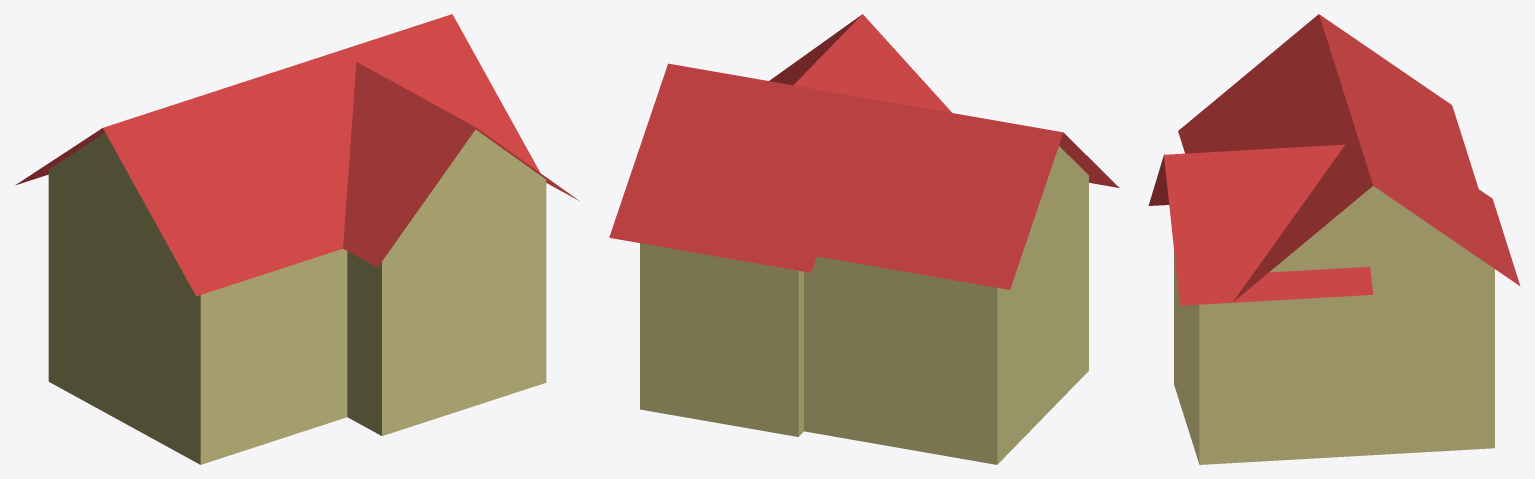
The picture shows the model from 3 angles, left to right: view 1: azimuth 30°, elevation 25°; view 2: azimuth 150°, elevation 25°; view 3: azimuth 270°, elevation 25°; orthographic projection. The views are drawn at different scales.
Bounding box in the file's own units: 14.89 × 12.31 × 10.19.
